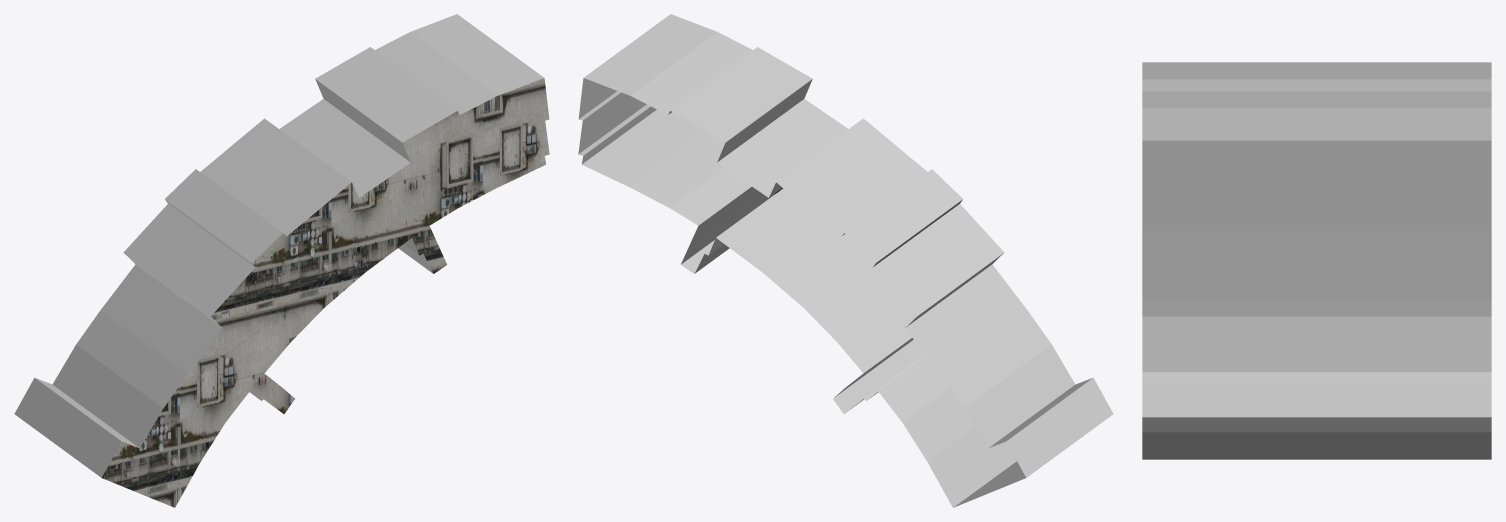
Rendered from geospecific_2153.obj.
3 renders of one model, left to right at view 1: azimuth 30°, elevation 25°; view 2: azimuth 150°, elevation 25°; view 3: azimuth 270°, elevation 25°, orthographic. The views are drawn at different scales.
Parts seen in each view (by area): view 1: Building; view 2: Building; view 3: Building.
Part boxes in pixels (box(x1,y1,x2,y2)): Building: box(14, 14, 549, 507); Building: box(578, 14, 1113, 507); Building: box(1142, 62, 1491, 459).
Size of the model in its own units: 71.09 by 51.54 by 24.
